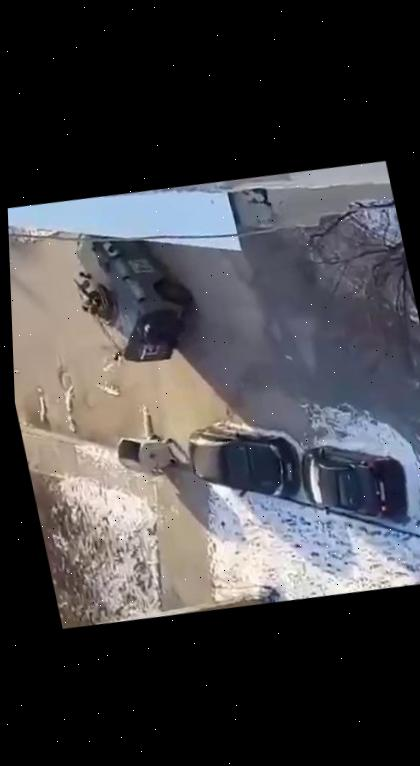armored_car: (61, 215, 202, 374)
car: (183, 408, 304, 511), (295, 428, 411, 531)
